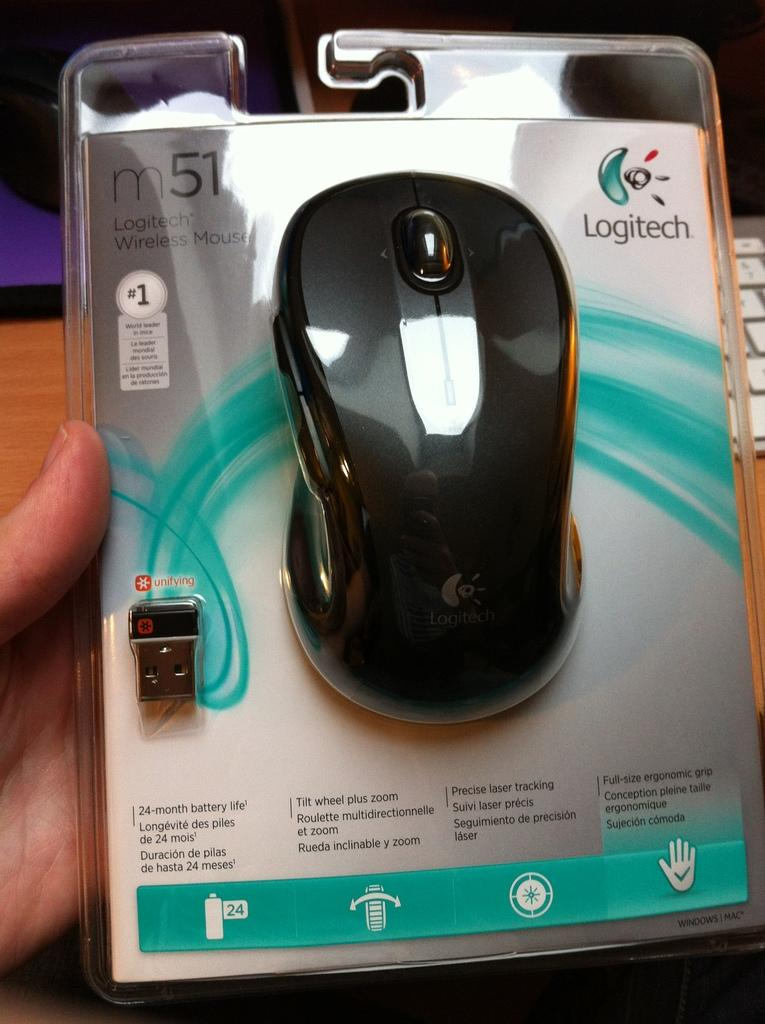Computer-mouse: (270, 173, 586, 726)
